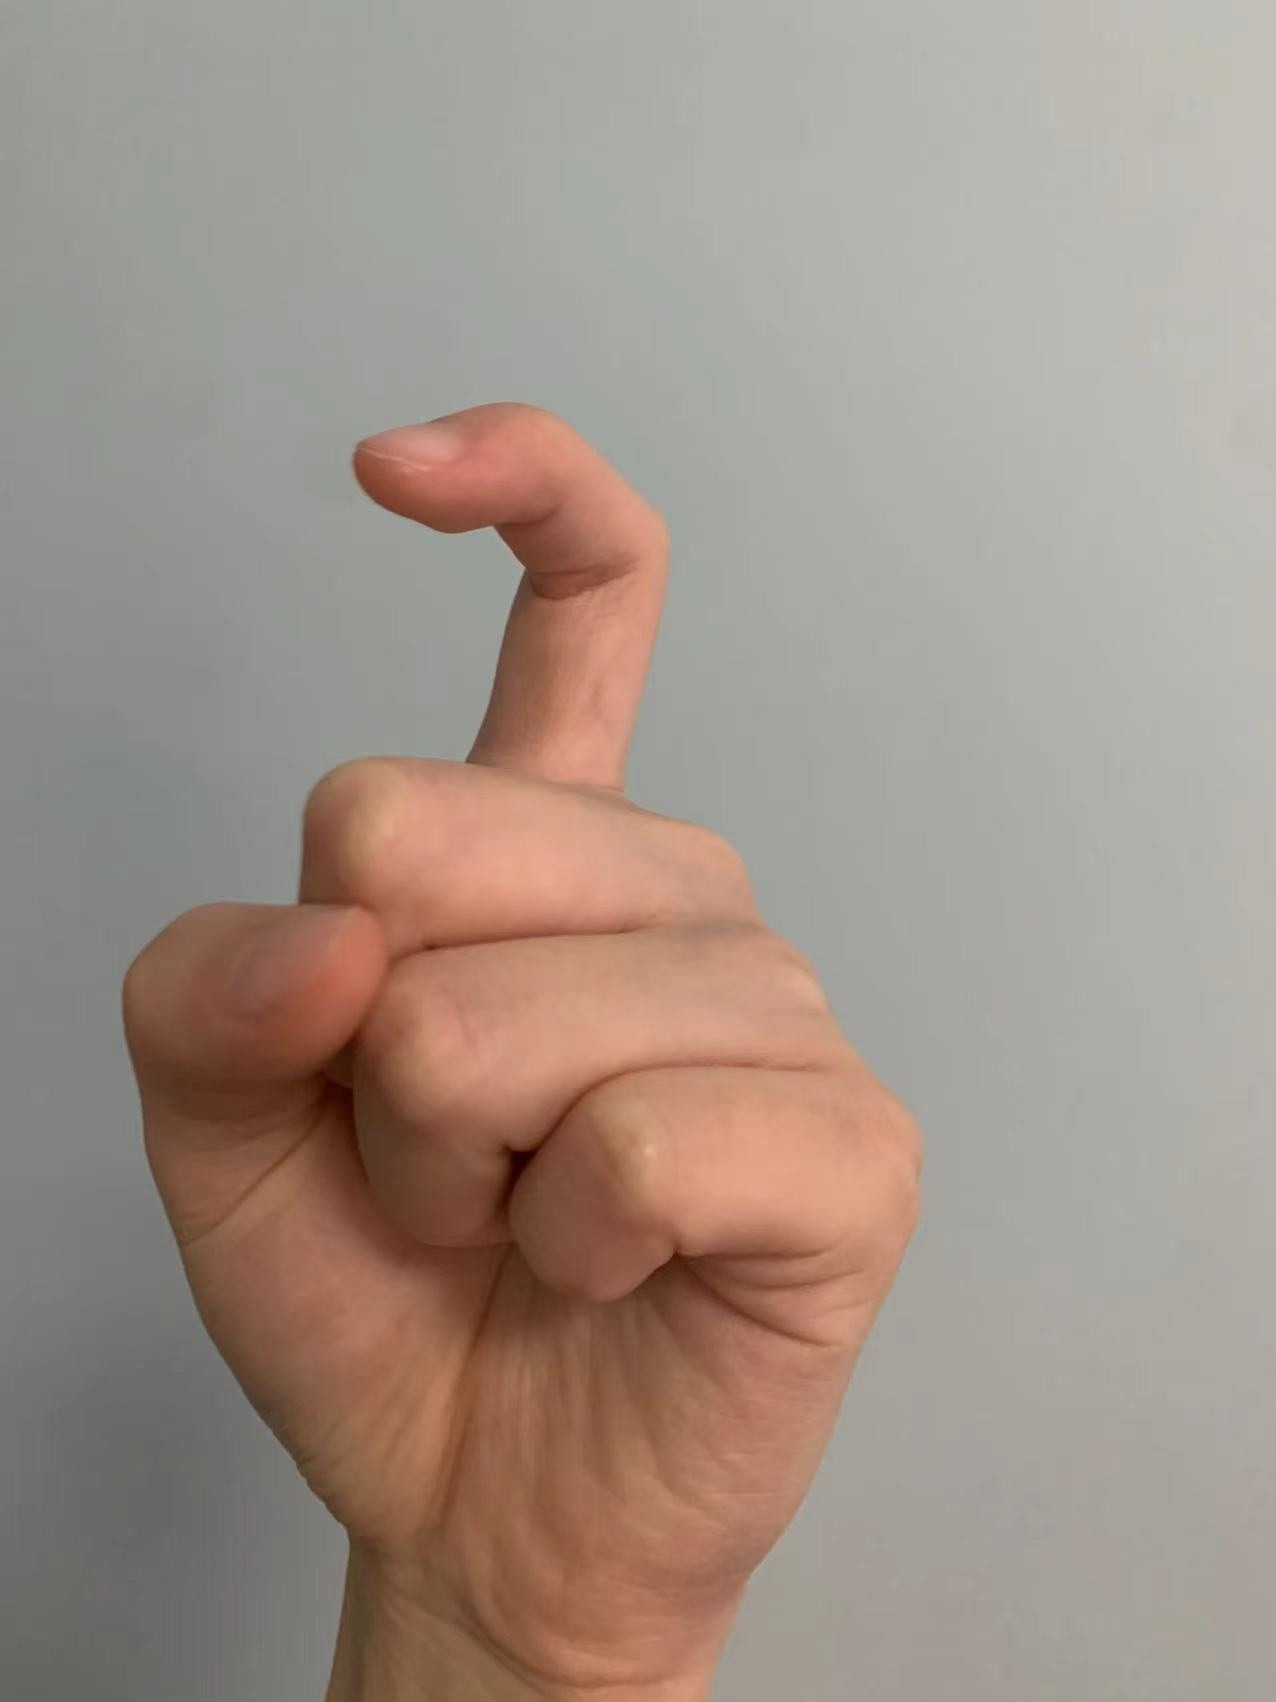anticlockwise: (113, 389, 952, 1611)
